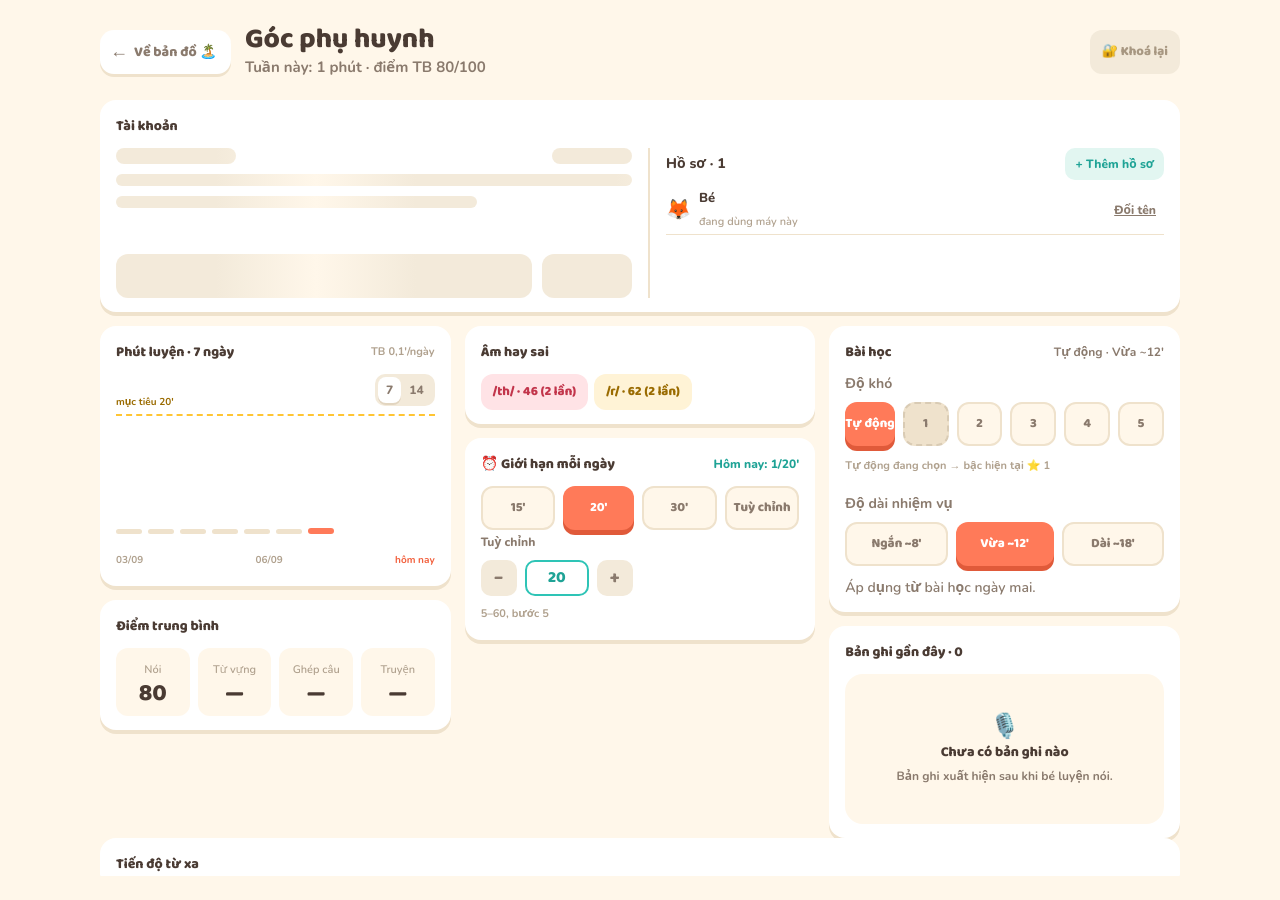
Test: ParentDashboard › on a phone the chip is a button that opens its tip; the tip is not hidden away
Click the button with test id "weak-chip": x=534, y=392 [481,374,588,410]
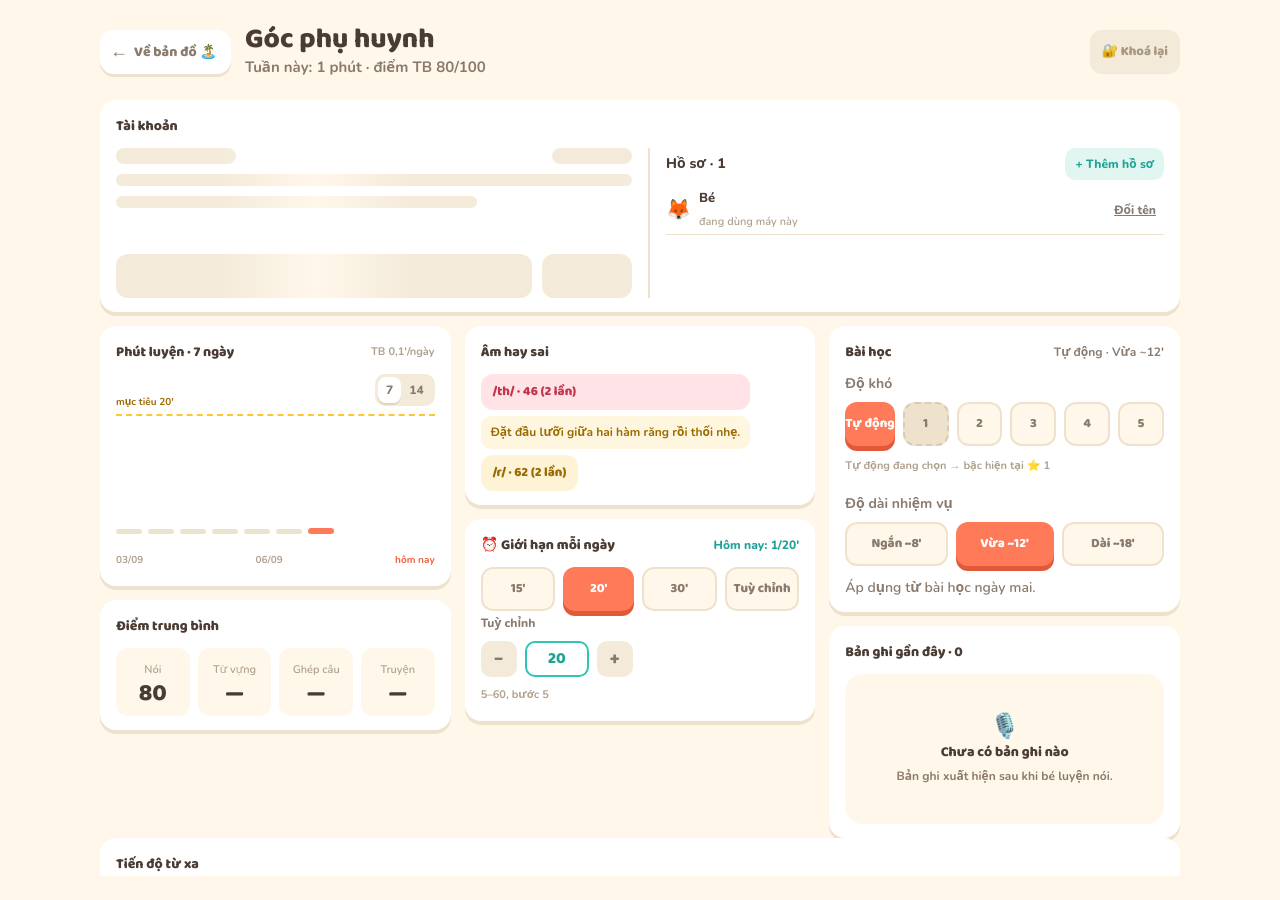
Click the button with test id "weak-chip": x=495, y=392 [481,374,750,410]
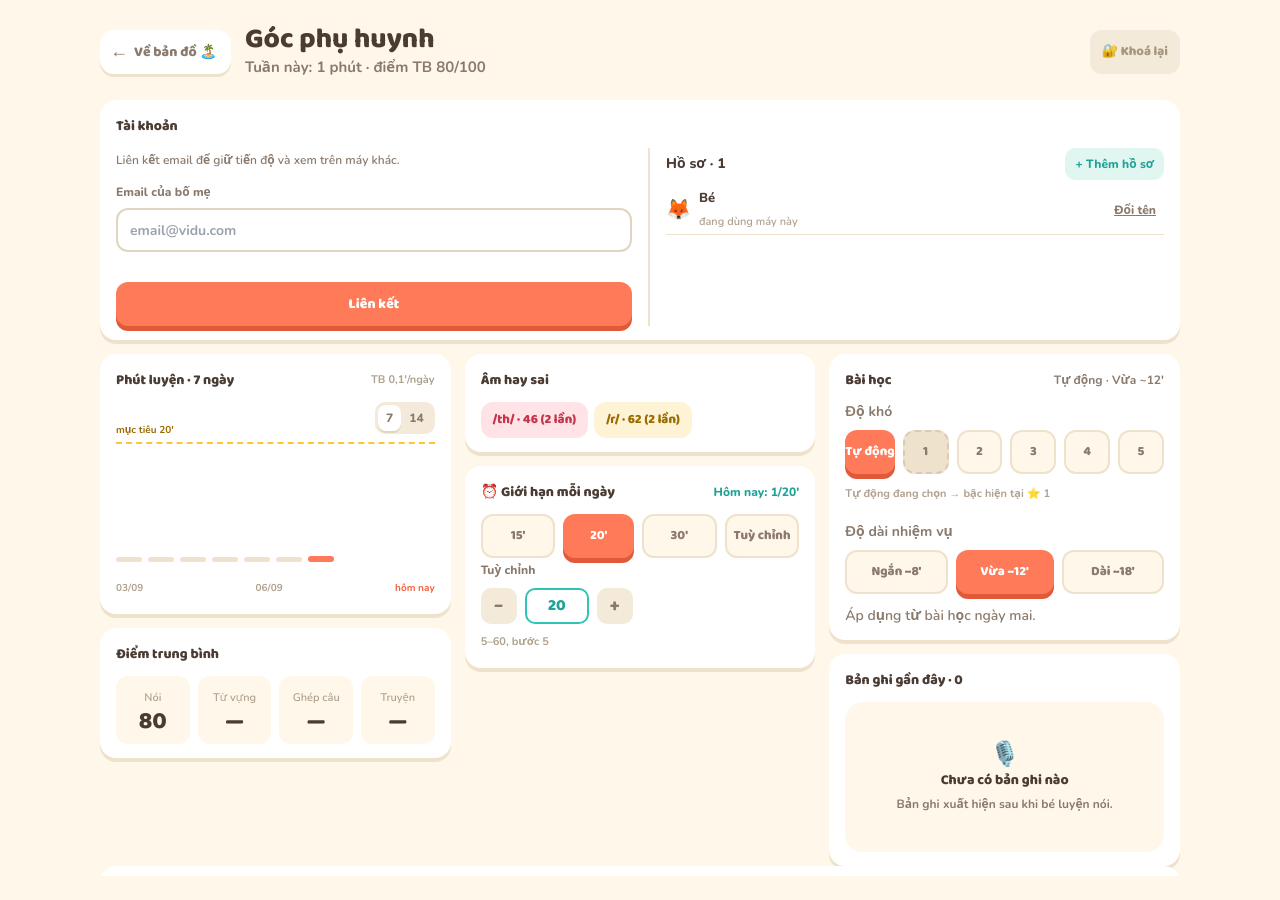
Check: the text with test id "weak-tip" is gone
